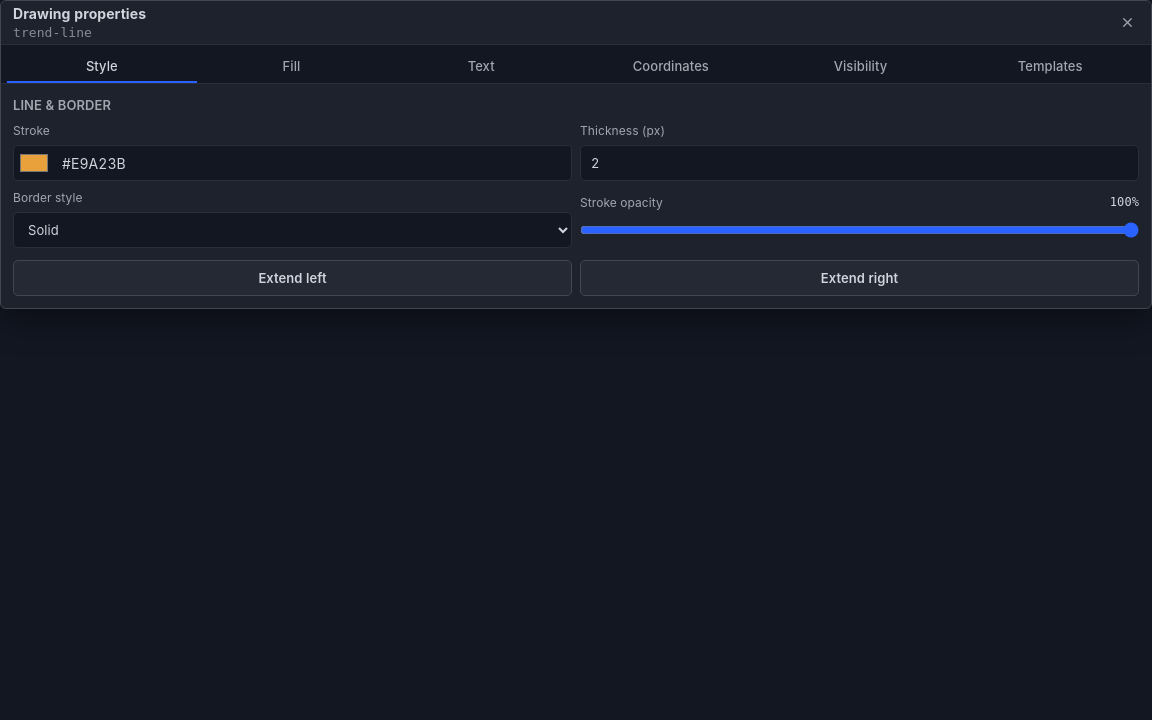
DrawingInspector › shows one compact property group at a time through accessible tabs
This screenshot has width=1152, height=720.
Check: the number field labelled "Thickness (px)" is shown, box [580,145,1139,181]
Check: the field labelled "Label" is not shown
Click the tab "Text": click(481, 67) [386,51,576,83]
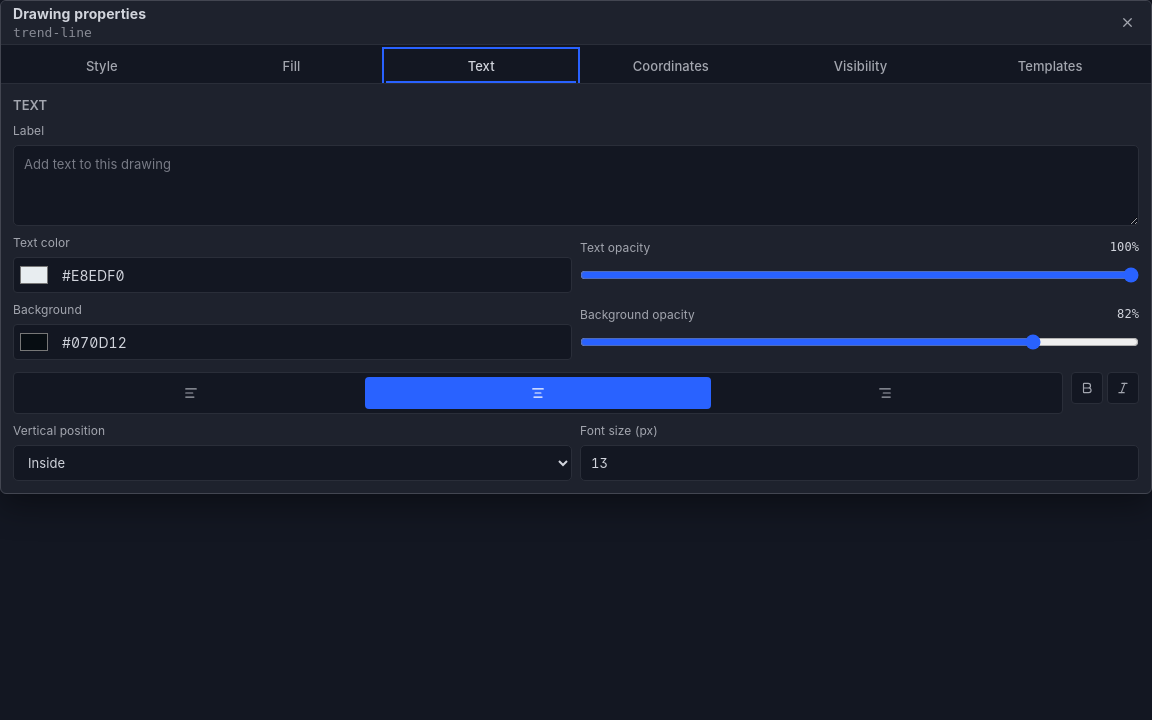
Check: the text box labelled "Label" is shown, box [13,145,1139,226]
Check: the label "Thickness" is gone
Press Arrowright
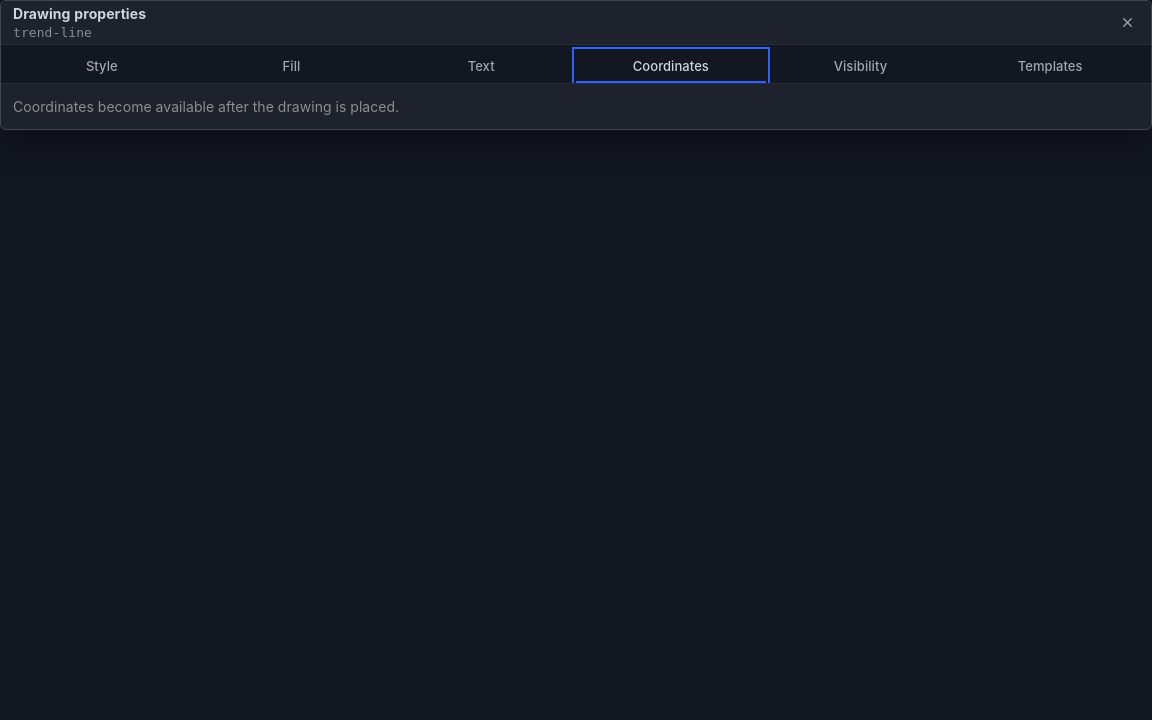
Click the tab "Templates": click(1050, 67) [955,51,1145,83]
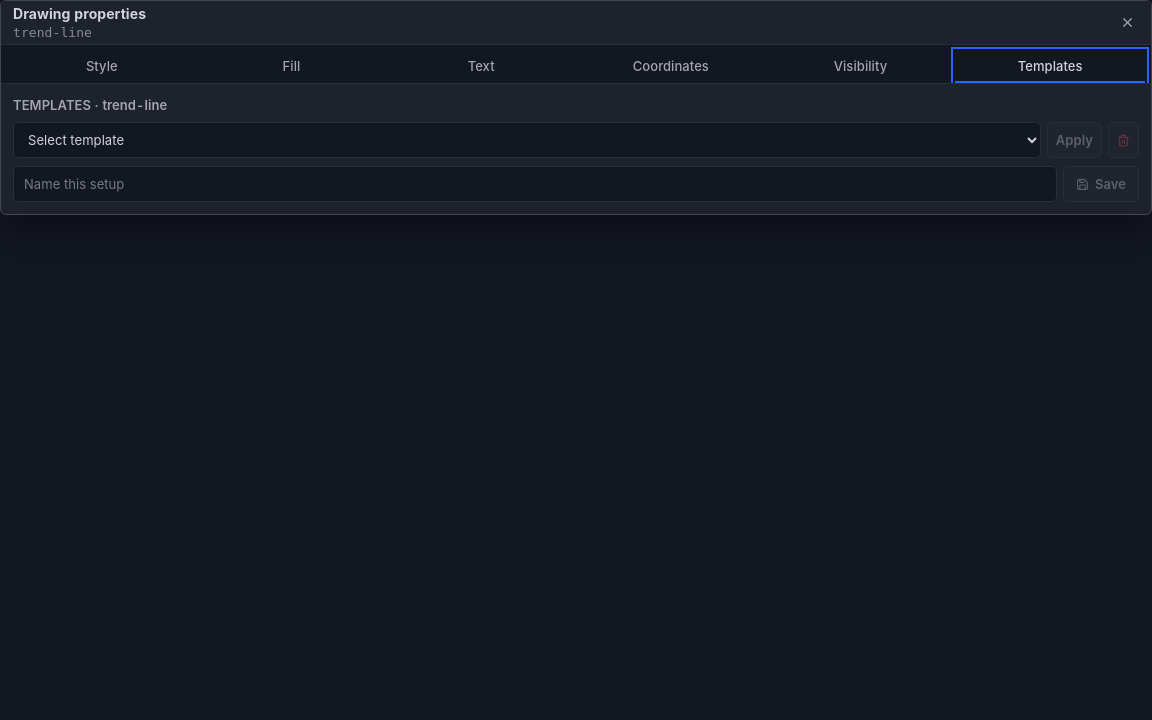
Check: the element named "Drawing property sections" is shown, box [1,45,1151,84]
Check: the field named "Template name" is shown, box [13,166,1057,202]
